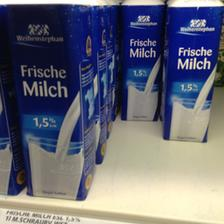Milch: (6, 2, 94, 198), (162, 0, 218, 138), (116, 0, 160, 120)
